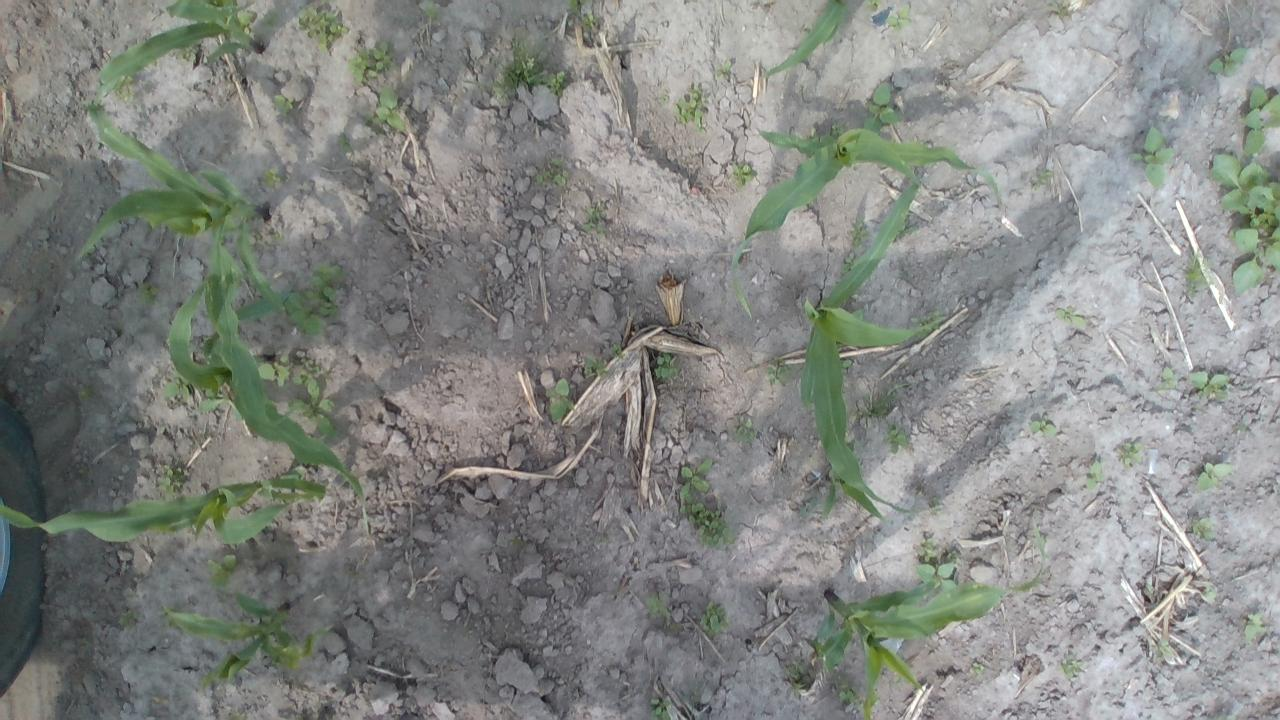Maize: (73, 99, 295, 429), (800, 164, 952, 520), (734, 124, 1006, 322), (168, 270, 366, 500), (822, 520, 1046, 717), (2, 462, 328, 547), (154, 587, 316, 700), (94, 0, 262, 98), (769, 0, 846, 76)
Weeds: (1209, 151, 1280, 296), (504, 36, 566, 96), (287, 376, 338, 437), (1131, 124, 1174, 188), (1242, 82, 1279, 154), (294, 4, 346, 52), (685, 496, 731, 547), (370, 85, 408, 132), (864, 80, 897, 134), (352, 41, 394, 81), (674, 86, 710, 132), (679, 458, 712, 502), (287, 294, 320, 335), (915, 562, 957, 591), (312, 263, 344, 300), (534, 156, 572, 187), (1208, 46, 1246, 77), (546, 377, 572, 421), (1181, 248, 1211, 286), (1188, 370, 1230, 396), (156, 463, 188, 496), (700, 601, 731, 634), (580, 198, 608, 234), (206, 555, 236, 588), (1198, 463, 1232, 491), (1114, 440, 1147, 468), (258, 360, 293, 386), (163, 371, 190, 403), (784, 664, 811, 694), (734, 414, 756, 448), (568, 1, 595, 28), (1154, 366, 1180, 394), (855, 398, 889, 419), (1082, 459, 1104, 490), (888, 4, 912, 31), (919, 530, 939, 562), (888, 422, 908, 454), (762, 360, 788, 384), (848, 221, 872, 246), (1056, 306, 1086, 326), (1190, 515, 1214, 540), (1245, 612, 1265, 642), (837, 678, 861, 703), (646, 590, 666, 618), (1031, 413, 1055, 436), (1064, 658, 1086, 682), (650, 695, 671, 719), (732, 163, 752, 187), (656, 354, 676, 378), (140, 279, 158, 305), (113, 76, 133, 99), (584, 360, 610, 376), (274, 94, 294, 114), (1031, 170, 1052, 188), (118, 608, 135, 627), (238, 10, 255, 28), (264, 169, 280, 187), (321, 303, 339, 318), (1204, 586, 1220, 602), (716, 65, 732, 80), (338, 134, 350, 153), (930, 498, 944, 514), (426, 4, 439, 21), (968, 662, 985, 674), (846, 252, 856, 269), (77, 384, 88, 398), (614, 345, 626, 357), (658, 90, 669, 102), (228, 712, 244, 720), (512, 534, 522, 546), (867, 0, 879, 9), (75, 464, 84, 476), (272, 229, 282, 239)
